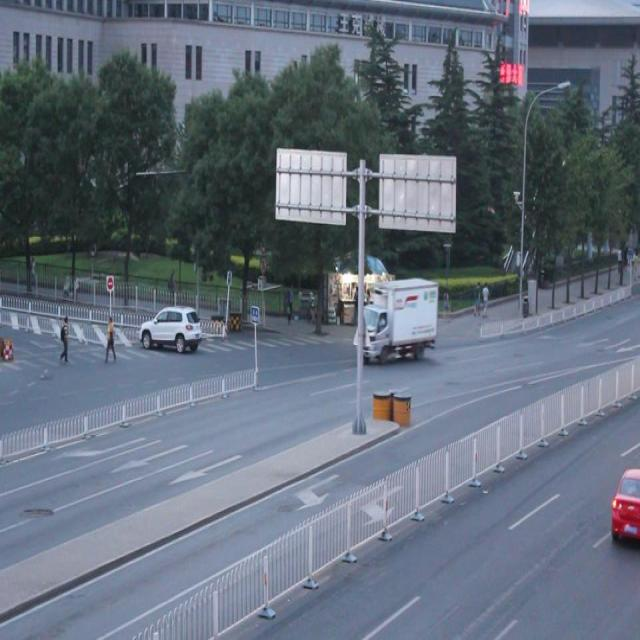bus: (358, 280, 436, 362)
car: (138, 302, 201, 350), (607, 466, 640, 535)
